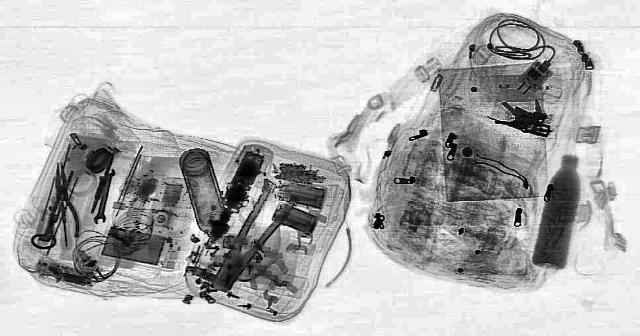Pliers: (198, 186, 304, 294), (40, 162, 80, 237)
Wrench: (90, 168, 116, 224)
